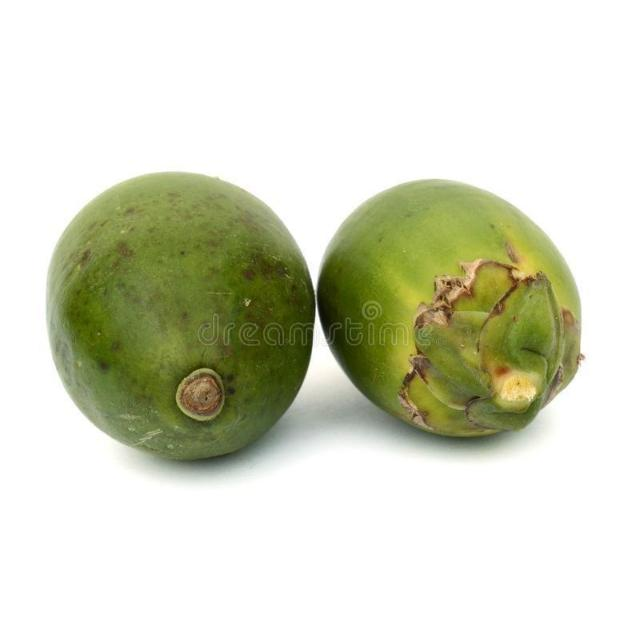good: (45, 170, 317, 464), (315, 178, 584, 440)
